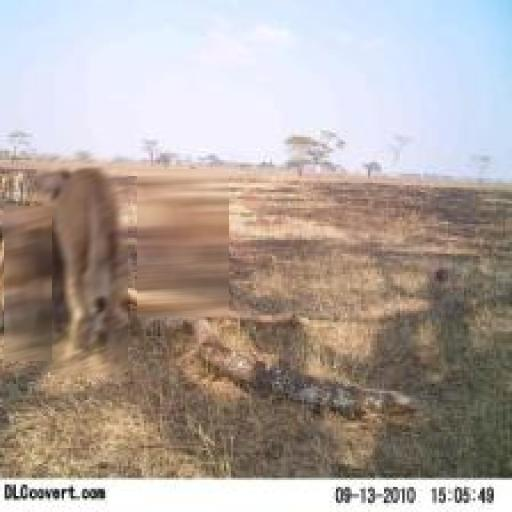lion: (37, 137, 128, 372), (137, 169, 229, 317), (4, 206, 52, 361)
